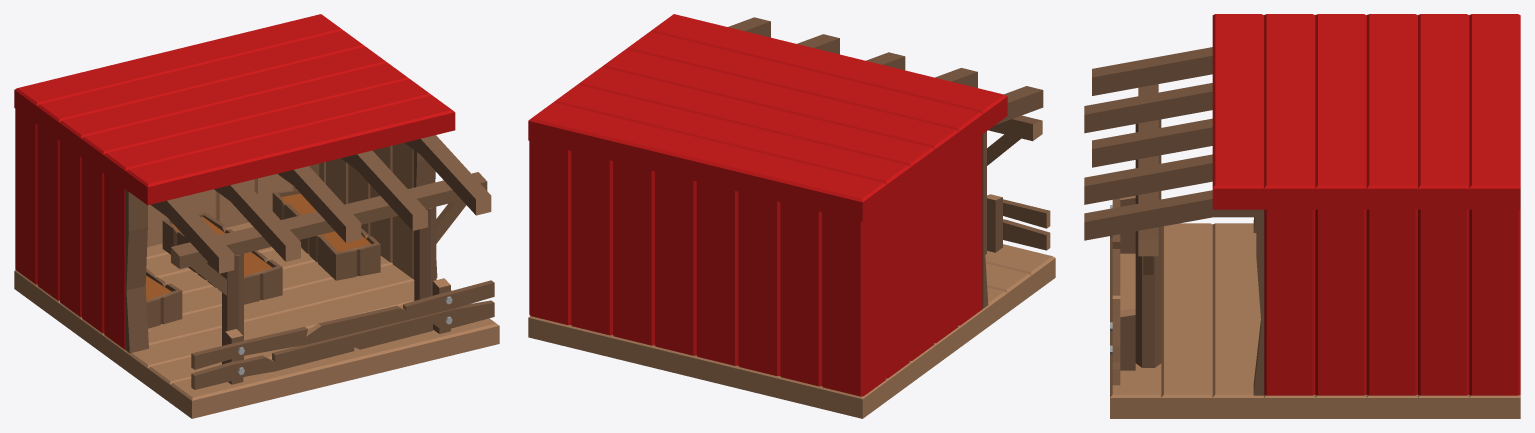
Rendered from Farm_Lvl_01_Straight.fbx.
The picture shows the model from 3 angles, left to right: view 1: azimuth 30°, elevation 25°; view 2: azimuth 150°, elevation 25°; view 3: azimuth 270°, elevation 25°; orthographic projection. The views are drawn at different scales.
Visible parts, largest first — view 1: Farm_Lvl_01_Straight; view 2: Farm_Lvl_01_Straight; view 3: Farm_Lvl_01_Straight.
Boxes of the visible parts, x1,y1,x2,y2 form: Farm_Lvl_01_Straight: (14, 14, 499, 418); Farm_Lvl_01_Straight: (528, 14, 1055, 418); Farm_Lvl_01_Straight: (1084, 14, 1520, 418).
Bounding box in the file's own units: 8 × 5 × 8.5.
